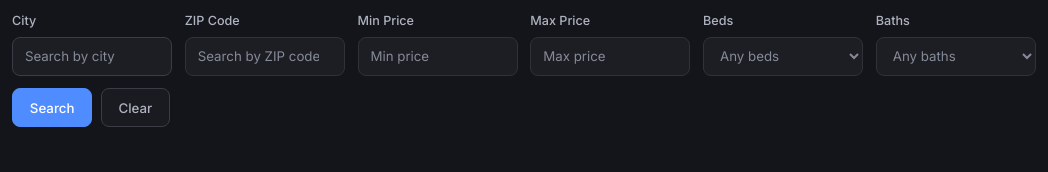
Scenario: PropertyFilters › clear resets all controls and passes empty filters
The image size is (1048, 172).
Type "Irvine" into the search field labelled "City".
click(92, 56); type("Irvine")  # box [12,37,172,76]
Type "92612" into the search field labelled "ZIP Code".
click(265, 56); type("92612")  # box [185,37,345,76]
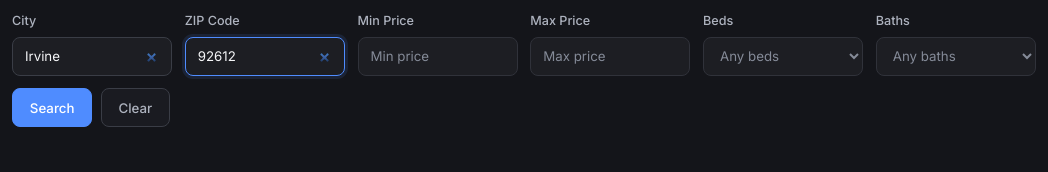
Type "500000" into the number field labelled "Min Price".
click(438, 56); type("500000")  # box [358,37,518,76]
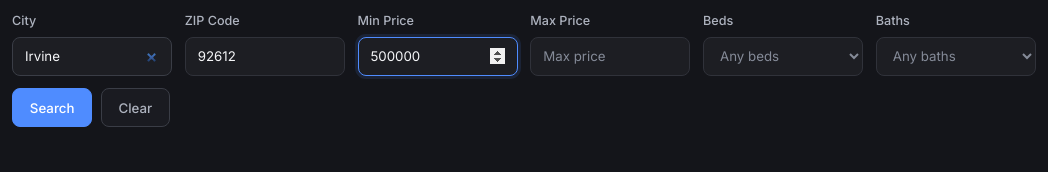
Type "1000000" into the number field labelled "Max Price".
click(610, 56); type("1000000")  # box [530,37,690,76]
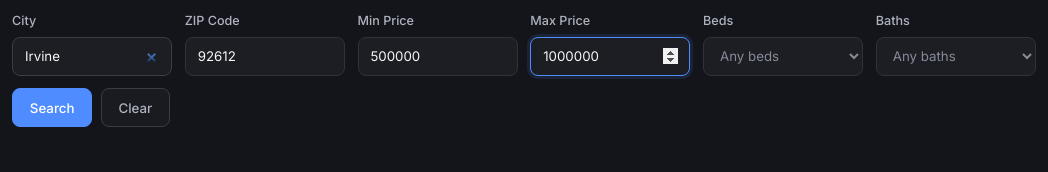
Select "3 beds" in the dropdown labelled "Beds" at x=783, y=56, box [703,37,863,76]
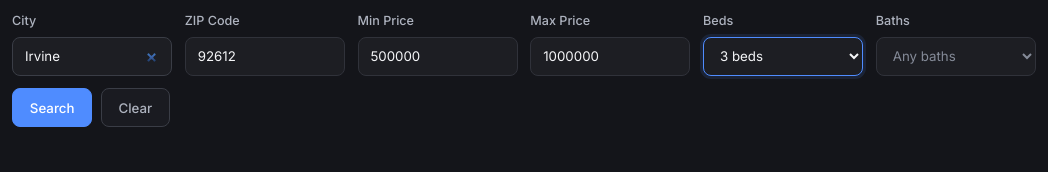
Select "2 baths" in the dropdown labelled "Baths" at x=956, y=56, box [876,37,1036,76]
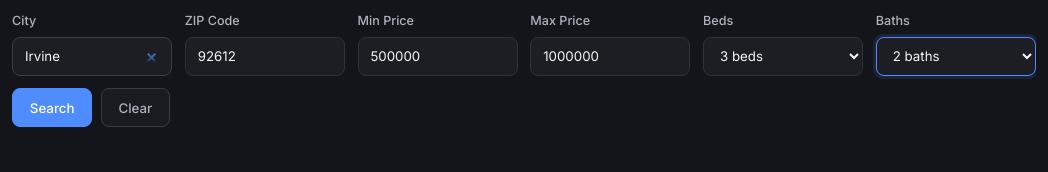
Click the button "Clear".
click(135, 108)  # box [101,88,170,127]
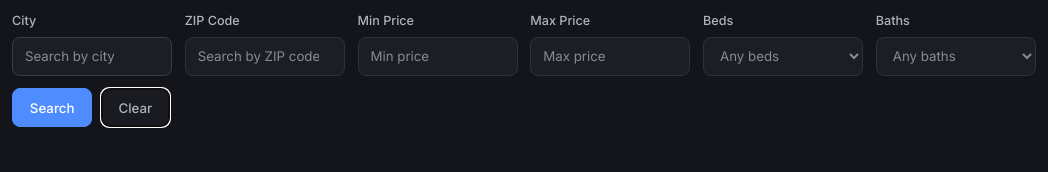
Check: the search field labelled "City" is empty, box [12,37,172,76]
Check: the search field labelled "ZIP Code" is empty, box [185,37,345,76]
Check: the number field labelled "Min Price" is not empty, box [358,37,518,76]
